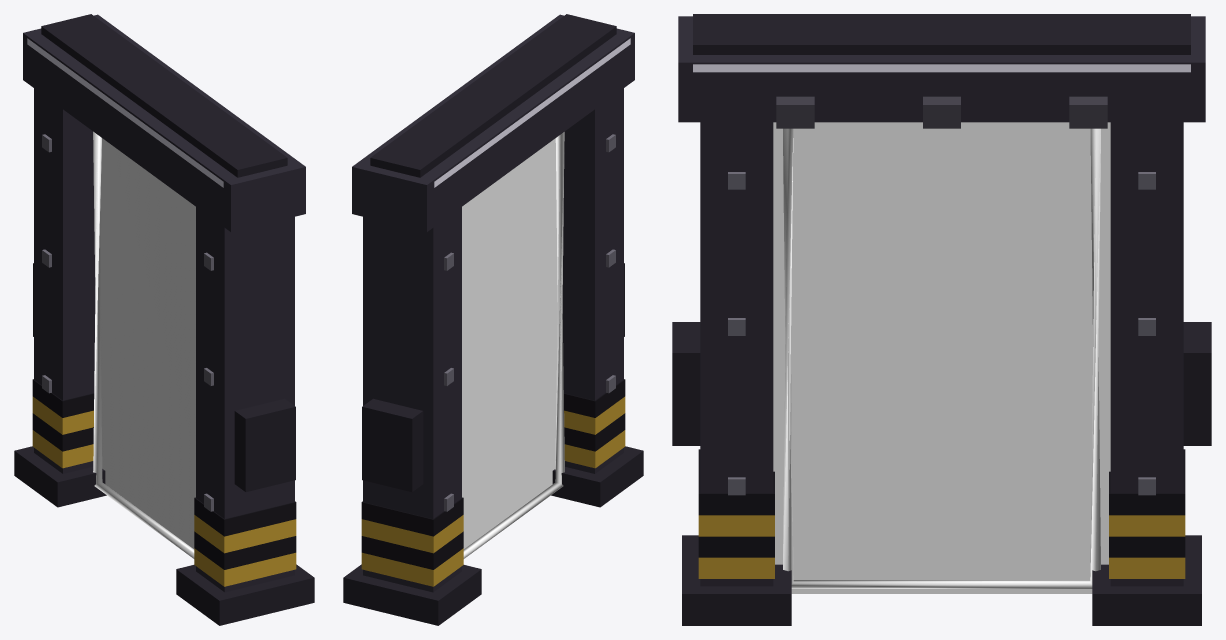
Rendered from portal.glb.
3 views of the same model, side by side, from view 1: azimuth 30°, elevation 25°; view 2: azimuth 150°, elevation 25°; view 3: azimuth 270°, elevation 25° (orthographic). The views are drawn at different scales.
Visible parts, largest first — view 1: Arch, PortalInner, Neon_f4f0ff; view 2: Arch, PortalInner, Neon_f4f0ff; view 3: Arch, PortalInner, PortalLabel, Neon_f4f0ff.
Boxes of the visible parts, box(x1,y1,x2,y2) form: Arch: box(14, 14, 314, 625); PortalInner: box(93, 131, 195, 558); Neon_f4f0ff: box(27, 38, 223, 187); Arch: box(343, 14, 643, 625); PortalInner: box(462, 132, 564, 558); Neon_f4f0ff: box(434, 38, 630, 187); Arch: box(672, 14, 1211, 625); PortalInner: box(773, 122, 1110, 593); PortalLabel: box(824, 242, 1059, 374); Neon_f4f0ff: box(693, 64, 1190, 72).
Size of the model in its own units: 0.985 by 4.27 by 3.68.
